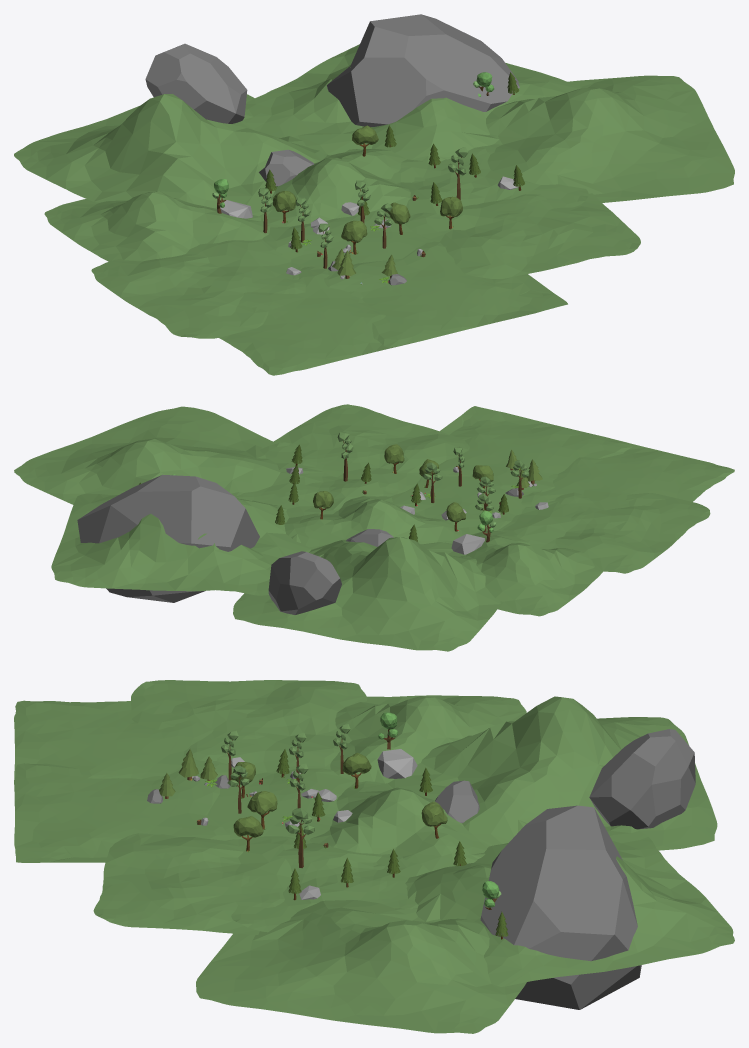
File: park.2d07f332.fbx
3 renders of one model, top to bottom at view 1: azimuth 30°, elevation 25°; view 2: azimuth 150°, elevation 25°; view 3: azimuth 270°, elevation 25°, orthographic. The views are drawn at different scales.
Visible parts, largest first — view 1: Ground_02__4_, Ground_02__2_, Rock_05__3_, Ground_02__3_, Ground_01, Ground_01__2_, Ground_03__1_, Ground_03__2_, Ground_02, Ground_02__1_, Ground_01__1_, Rock_05__4_ (+2 smaller); view 2: Ground_02__2_, Ground_02__4_, Ground_02__3_, Ground_01, Rock_05__3_, Ground_01__2_, Ground_03__1_, Ground_03__2_, Ground_02, Ground_02__1_, Ground_01__1_, Ground_03 (+3 smaller); view 3: Ground_02__4_, Ground_02__2_, Rock_05__3_, Ground_02__3_, Ground_01__2_, Ground_01, Ground_03__1_, Ground_03__2_, Ground_02, Ground_02__1_, Rock_05__4_, Ground_01__1_ (+6 smaller).
Boxes of the visible parts, bbox=[...] form: Ground_02__4_: bbox=[479, 75, 734, 202]; Ground_02__2_: bbox=[14, 94, 326, 216]; Rock_05__3_: bbox=[327, 14, 519, 127]; Ground_02__3_: bbox=[243, 44, 581, 162]; Ground_01: bbox=[91, 239, 305, 338]; Ground_01__2_: bbox=[404, 193, 640, 278]; Ground_03__1_: bbox=[303, 241, 567, 347]; Ground_03__2_: bbox=[219, 266, 415, 375]; Ground_02: bbox=[44, 191, 270, 261]; Ground_02__1_: bbox=[259, 149, 424, 227]; Ground_01__1_: bbox=[391, 147, 588, 215]; Rock_05__4_: bbox=[145, 43, 247, 123]; Ground_02__2_: bbox=[233, 537, 500, 651]; Ground_02__4_: bbox=[14, 406, 280, 504]; Ground_02__3_: bbox=[51, 493, 311, 595]; Ground_01: bbox=[496, 492, 710, 573]; Rock_05__3_: bbox=[77, 474, 259, 602]; Ground_01__2_: bbox=[261, 404, 469, 494]; Ground_03__1_: bbox=[433, 406, 632, 507]; Ground_03__2_: bbox=[521, 439, 734, 510]; Ground_02: bbox=[466, 530, 603, 616]; Ground_02__1_: bbox=[284, 496, 466, 549]; Ground_01__1_: bbox=[235, 442, 395, 517]; Ground_03: bbox=[390, 474, 557, 534]; Ground_02__4_: bbox=[196, 900, 526, 1033]; Ground_02__2_: bbox=[388, 696, 717, 850]; Rock_05__3_: bbox=[480, 805, 641, 1009]; Ground_02__3_: bbox=[405, 825, 734, 986]; Ground_01__2_: bbox=[93, 833, 296, 934]; Ground_01: bbox=[131, 680, 366, 774]; Ground_03__1_: bbox=[14, 763, 230, 862]; Ground_03__2_: bbox=[14, 700, 233, 779]; Ground_02: bbox=[330, 695, 526, 783]; Ground_02__1_: bbox=[309, 781, 489, 871]; Rock_05__4_: bbox=[589, 729, 695, 829]; Ground_01__1_: bbox=[231, 840, 429, 932].
Bounding box in the file's own units: 10498 × 1888 × 9084.
Materials: 1 (1 with a texture image).
